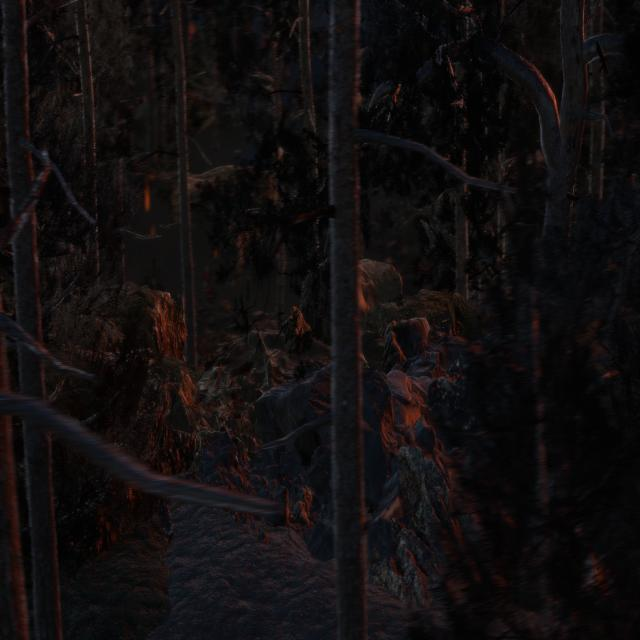Human: (286, 305, 331, 372)
